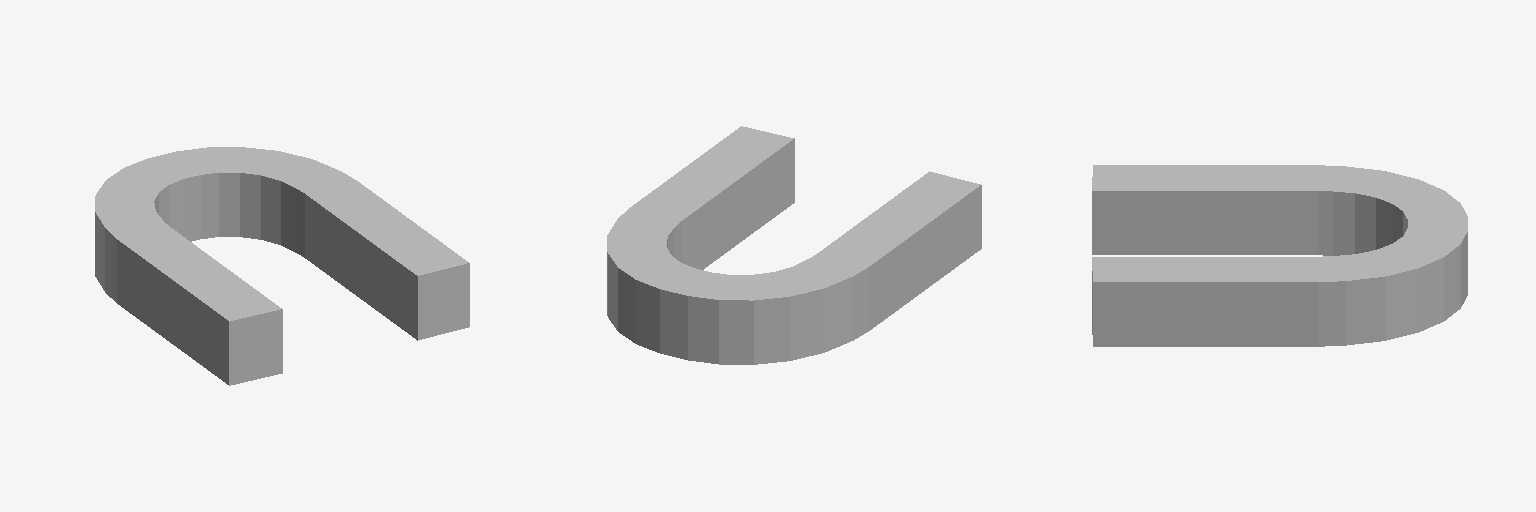
File: magnet.obj
3 views of the same model, side by side, from view 1: azimuth 30°, elevation 25°; view 2: azimuth 150°, elevation 25°; view 3: azimuth 270°, elevation 25° (orthographic).
Parts seen in each view (by area): view 1: Plane; view 2: Plane; view 3: Plane.
Boxes of the visible parts, <box> form: Plane: <box>95,147,469,385</box>; Plane: <box>607,126,981,364</box>; Plane: <box>1092,165,1467,346</box>.
Size of the model in its own units: 4.5 by 1.15 by 6.1.